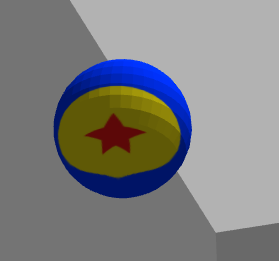toy story ball: (53, 59, 192, 199)
